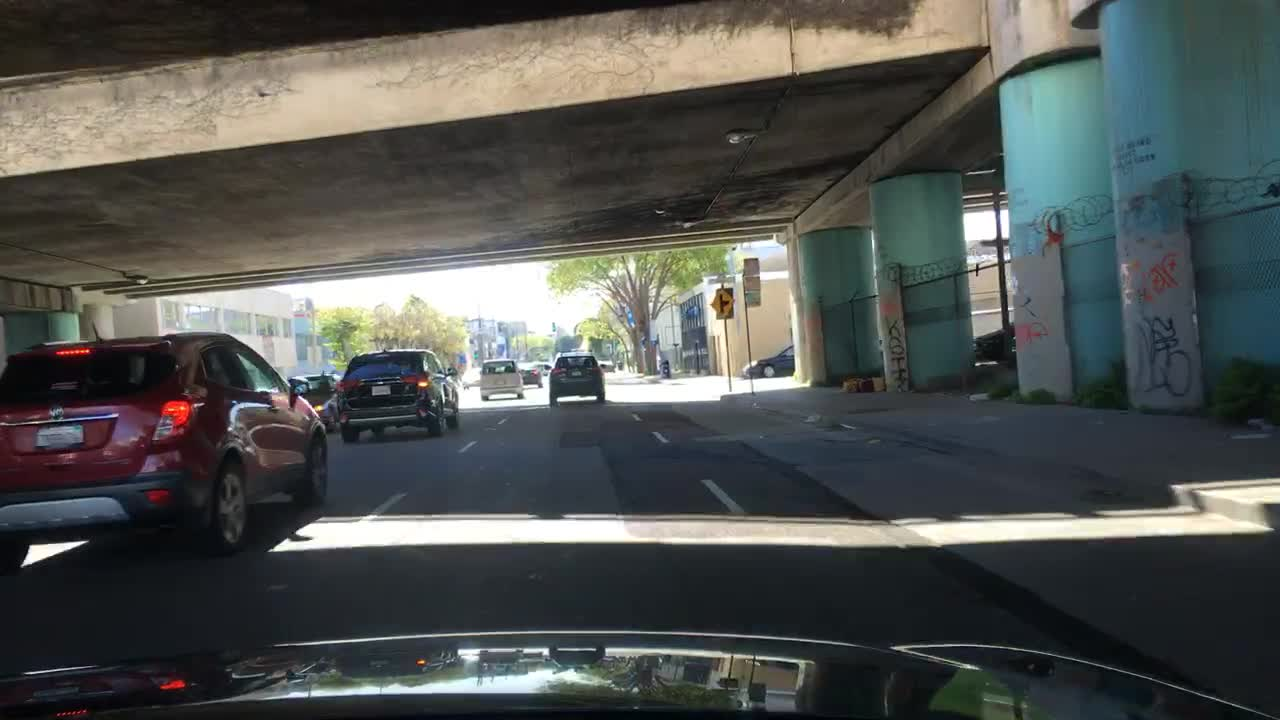car: (1, 333, 329, 576), (337, 347, 460, 443), (283, 369, 343, 433), (545, 352, 606, 403), (741, 337, 794, 377), (477, 357, 525, 401), (968, 322, 1018, 362), (522, 367, 543, 388)
traffic sign: (706, 292, 730, 317), (706, 272, 734, 287), (744, 277, 761, 292), (742, 293, 760, 307), (742, 257, 756, 272)
